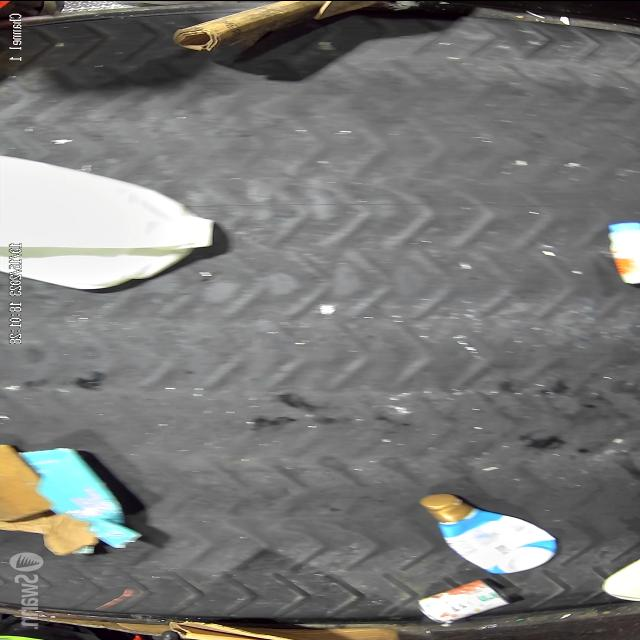can: (416, 578, 509, 624)
milk_jug: (1, 154, 214, 290)
